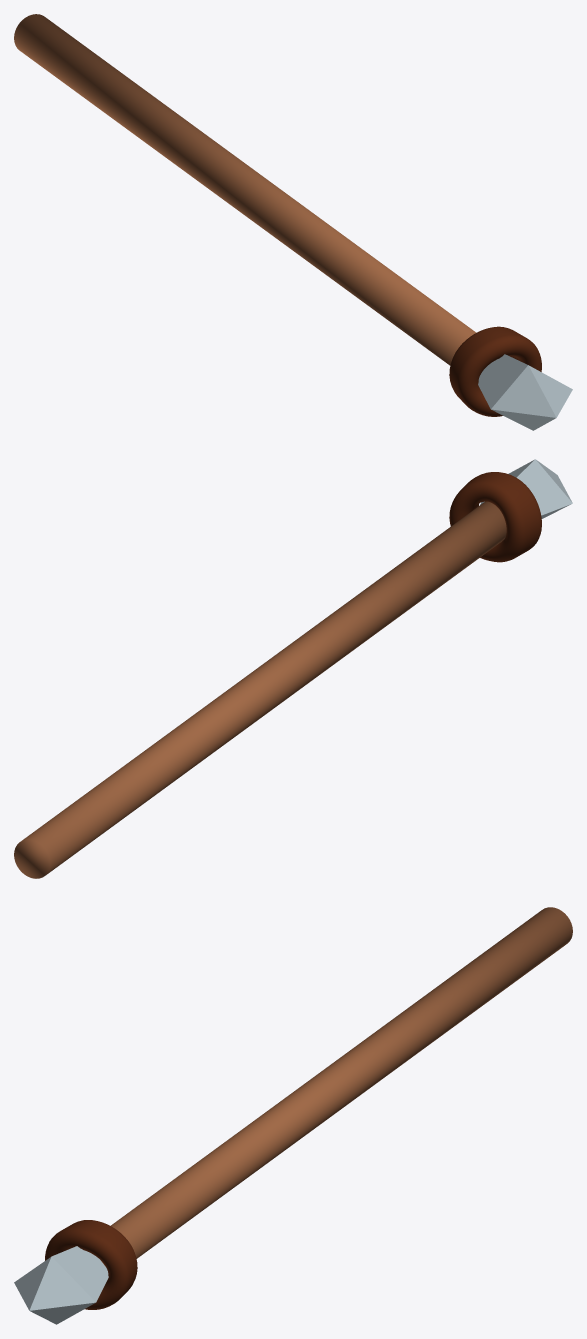
The model's file is spear.glb.
The picture shows the model from 3 angles, top to bottom: view 1: azimuth 30°, elevation 25°; view 2: azimuth 150°, elevation 25°; view 3: azimuth 330°, elevation 25°; orthographic projection.
Visible parts, largest first — view 1: spear; view 2: spear; view 3: spear.
Part boxes in pixels (bbox=[...]): spear: bbox=[14, 14, 572, 430]; spear: bbox=[14, 459, 572, 878]; spear: bbox=[14, 907, 572, 1324].
Bounding box in the file's own units: 0.3402 × 0.3113 × 3.76.
